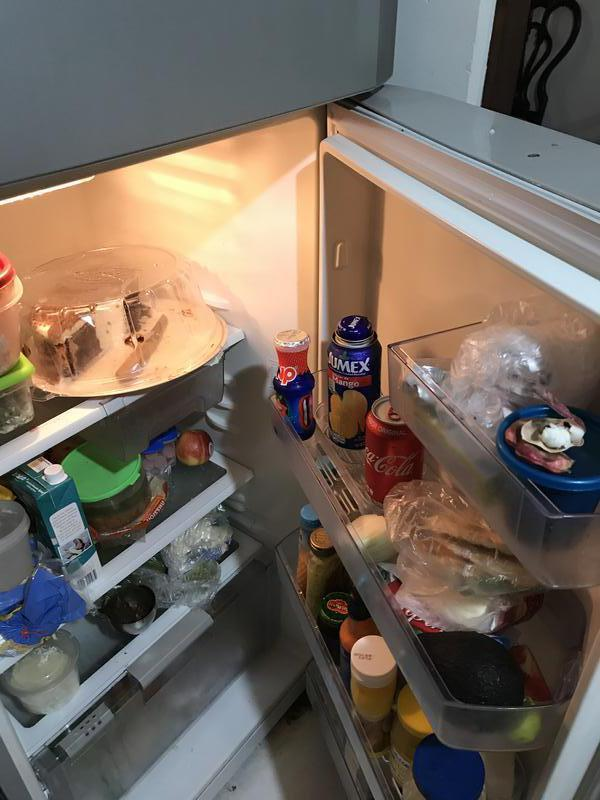coca_cola: (366, 395, 422, 508)
danup: (274, 329, 316, 442)
jugo_jumex: (327, 319, 379, 447)
